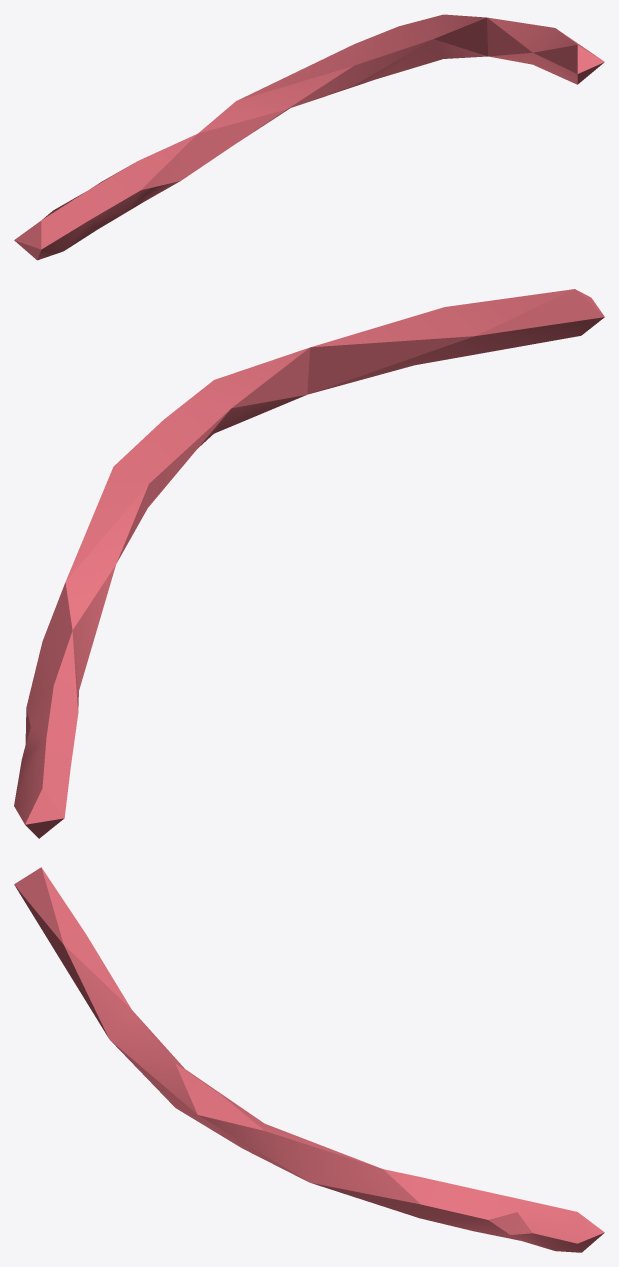
The model's file is fma50520_fj1708m.glb.
3 views of the same model, one above another, from view 1: azimuth 90°, elevation 25°; view 2: azimuth 150°, elevation 25°; view 3: azimuth 270°, elevation 25° (orthographic). The views are drawn at different scales.
Parts seen in each view (by area): view 1: FMA50520_FJ1708M; view 2: FMA50520_FJ1708M; view 3: FMA50520_FJ1708M.
Part boxes in pixels (x1=…): FMA50520_FJ1708M: x1=14, y1=14, x2=604, y2=260; FMA50520_FJ1708M: x1=14, y1=289, x2=604, y2=838; FMA50520_FJ1708M: x1=14, y1=867, x2=604, y2=1252.
Bounding box in the file's own units: 0.00306 × 0.00297 × 0.00529.
